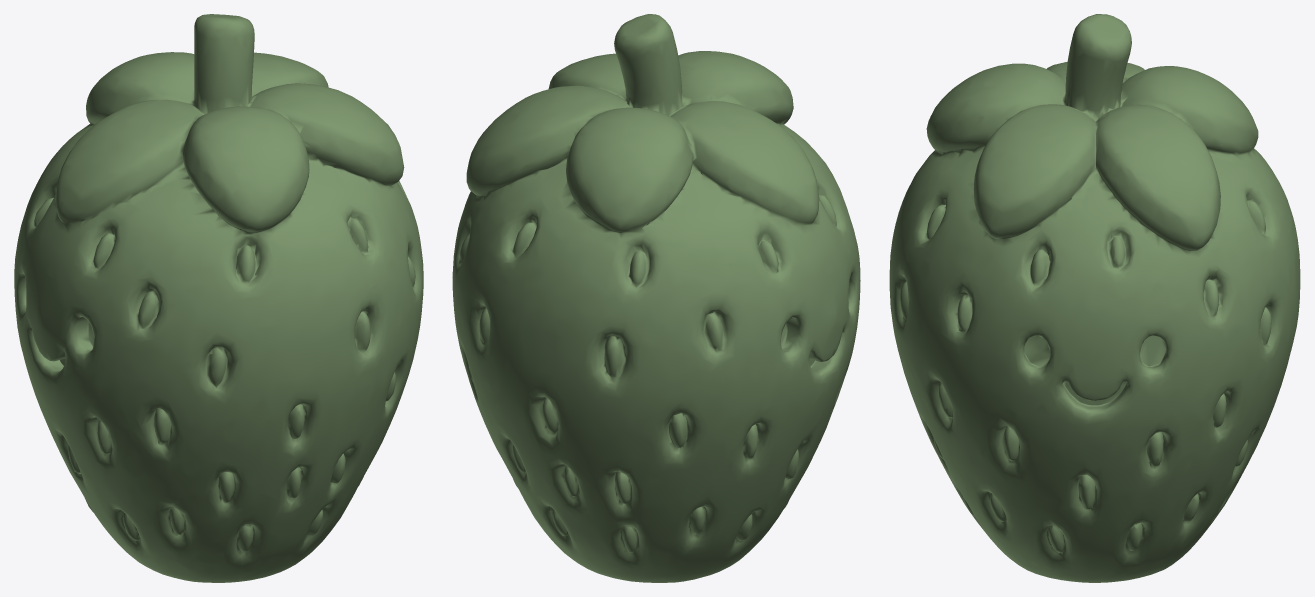
The model's file is strawberry-pal.glb.
3 views of the same model, side by side, from view 1: azimuth 30°, elevation 25°; view 2: azimuth 150°, elevation 25°; view 3: azimuth 270°, elevation 25° (orthographic).
Visible parts, largest first — view 1: tripo_printable_source; view 2: tripo_printable_source; view 3: tripo_printable_source.
Part boxes in pixels (<box>): tripo_printable_source: <box>14,14,423,582</box>; tripo_printable_source: <box>452,14,860,582</box>; tripo_printable_source: <box>889,14,1300,582</box>.
Size of the model in its own units: 69.94 by 100 by 70.
